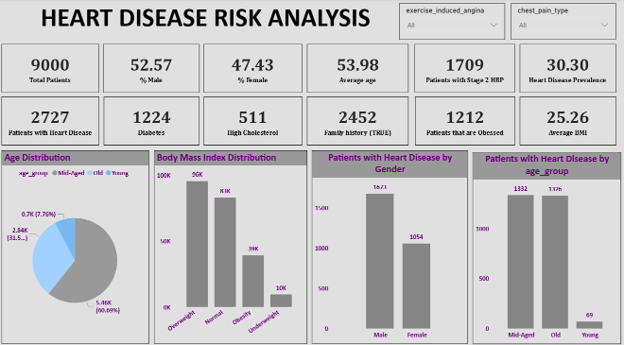

What the dashboard file says about the page in this screenshot:
{"tool":"powerbi","page":{"name":"Page 1","canvas":[1280,720],"ordinal":0},"visuals":[{"type":"card","fields":{"Values":["heart_disease_risk_2026_clean.Total Patients"]},"box":[6,91.7,199.1,98.9],"z":0},{"type":"card","fields":{"Values":["heart_disease_risk_2026_clean.Patients with Stage 2 HBP"]},"box":[849.3,91.7,205.1,98.9],"z":1000},{"type":"card","fields":{"Values":["heart_disease_risk_2026_clean.Patient with Heart Disease"]},"box":[6,199.1,199.1,98.9],"z":2000},{"type":"card","fields":{"Values":["heart_disease_risk_2026_clean.Diabetes"]},"box":[214.7,199.1,195.4,98.9],"z":3000},{"type":"card","fields":{"Values":["heart_disease_risk_2026_clean.High Cholesterol"]},"box":[418.6,199.1,201.5,98.9],"z":4000},{"type":"card","fields":{"Values":["heart_disease_risk_2026_clean.TRUE COUNT"]},"box":[629.8,199.1,207.5,98.9],"z":5000},{"type":"card","fields":{"Values":["heart_disease_risk_2026_clean.Average age"]},"box":[629.8,91.7,207.5,98.9],"z":6000},{"type":"card","fields":{"Values":["heart_disease_risk_2026_clean.% Male"]},"box":[213.5,91.7,196.6,98.9],"z":7000},{"type":"card","fields":{"Values":["heart_disease_risk_2026_clean.% Female"]},"box":[418.6,91.7,201.5,98.9],"z":8000},{"type":"pieChart","title":"Age Distribution","fields":{"Category":["heart_disease_risk_2026_clean.age_group"],"Y":["CountNonNull(heart_disease_risk_2026_clean.age_group)"]},"box":[6,308.8,300.4,394.5],"z":9000},{"type":"clusteredColumnChart","fields":{"Category":["heart_disease_risk_2026_clean.age_group"],"Y":["heart_disease_risk_2026_clean.Patients with Heart Disease"]},"box":[967.6,312.5,302.8,390.9],"z":10000},{"type":"clusteredColumnChart","title":"Patients with Heart Disease by Gender","fields":{"Y":["heart_disease_risk_2026_clean.Patients with Heart Disease"],"Category":["heart_disease_risk_2026_clean.sex"]},"box":[639.4,308.8,318.5,394.5],"z":11000},{"type":"clusteredColumnChart","title":"Body Mass Index Distribution","fields":{"Y":["Sum(heart_disease_risk_2026_clean.bmi)"],"Category":["heart_disease_risk_2026_clean.bmi_status"]},"box":[317.3,308.8,312.5,394.5],"z":12000},{"type":"card","fields":{"Values":["heart_disease_risk_2026_clean.Patients that are Obessed"]},"box":[850.5,199.1,203.9,98.9],"z":13000},{"type":"textbox","box":[80.8,0,746.8,83.2],"z":14000},{"type":"slicer","fields":{"Values":["heart_disease_risk_2026_clean.chest_pain_type"]},"box":[1046,8.4,214.7,74.8],"z":15000},{"type":"slicer","fields":{"Values":["heart_disease_risk_2026_clean.exercise_induced_angina"]},"box":[818,8.4,216,74.8],"z":16000},{"type":"card","fields":{"Values":["heart_disease_risk_2026_clean.Average BMI"]},"box":[1064.1,199.1,196.6,98.9],"z":17000},{"type":"card","fields":{"Values":["heart_disease_risk_2026_clean.Heart Disease Prevalence"]},"box":[1064.1,91.7,196.6,98.9],"z":18000}]}

Visuals, with their boxes in screenshot pixels (x1, y1, x2, y2), scaled from the page's 1280x720 canvas onto the 624x345 screenshot:
card - heart_disease_risk_2026_clean.Total Patients: x1=3 y1=44 x2=100 y2=91
card - heart_disease_risk_2026_clean.Patients with Stage 2 HBP: x1=414 y1=44 x2=514 y2=91
card - heart_disease_risk_2026_clean.Patient with Heart Disease: x1=3 y1=95 x2=100 y2=143
card - heart_disease_risk_2026_clean.Diabetes: x1=105 y1=95 x2=200 y2=143
card - heart_disease_risk_2026_clean.High Cholesterol: x1=204 y1=95 x2=302 y2=143
card - heart_disease_risk_2026_clean.TRUE COUNT: x1=307 y1=95 x2=408 y2=143
card - heart_disease_risk_2026_clean.Average age: x1=307 y1=44 x2=408 y2=91
card - heart_disease_risk_2026_clean.% Male: x1=104 y1=44 x2=200 y2=91
card - heart_disease_risk_2026_clean.% Female: x1=204 y1=44 x2=302 y2=91
"Age Distribution" pieChart: x1=3 y1=148 x2=149 y2=337
clusteredColumnChart - heart_disease_risk_2026_clean.age_group x heart_disease_risk_2026_clean.Patients with Heart Disease: x1=472 y1=150 x2=619 y2=337
"Patients with Heart Disease by Gender" clusteredColumnChart: x1=312 y1=148 x2=467 y2=337
"Body Mass Index Distribution" clusteredColumnChart: x1=155 y1=148 x2=307 y2=337
card - heart_disease_risk_2026_clean.Patients that are Obessed: x1=415 y1=95 x2=514 y2=143
textbox: x1=39 y1=0 x2=403 y2=40
slicer - heart_disease_risk_2026_clean.chest_pain_type: x1=510 y1=4 x2=615 y2=40
slicer - heart_disease_risk_2026_clean.exercise_induced_angina: x1=399 y1=4 x2=504 y2=40
card - heart_disease_risk_2026_clean.Average BMI: x1=519 y1=95 x2=615 y2=143
card - heart_disease_risk_2026_clean.Heart Disease Prevalence: x1=519 y1=44 x2=615 y2=91
